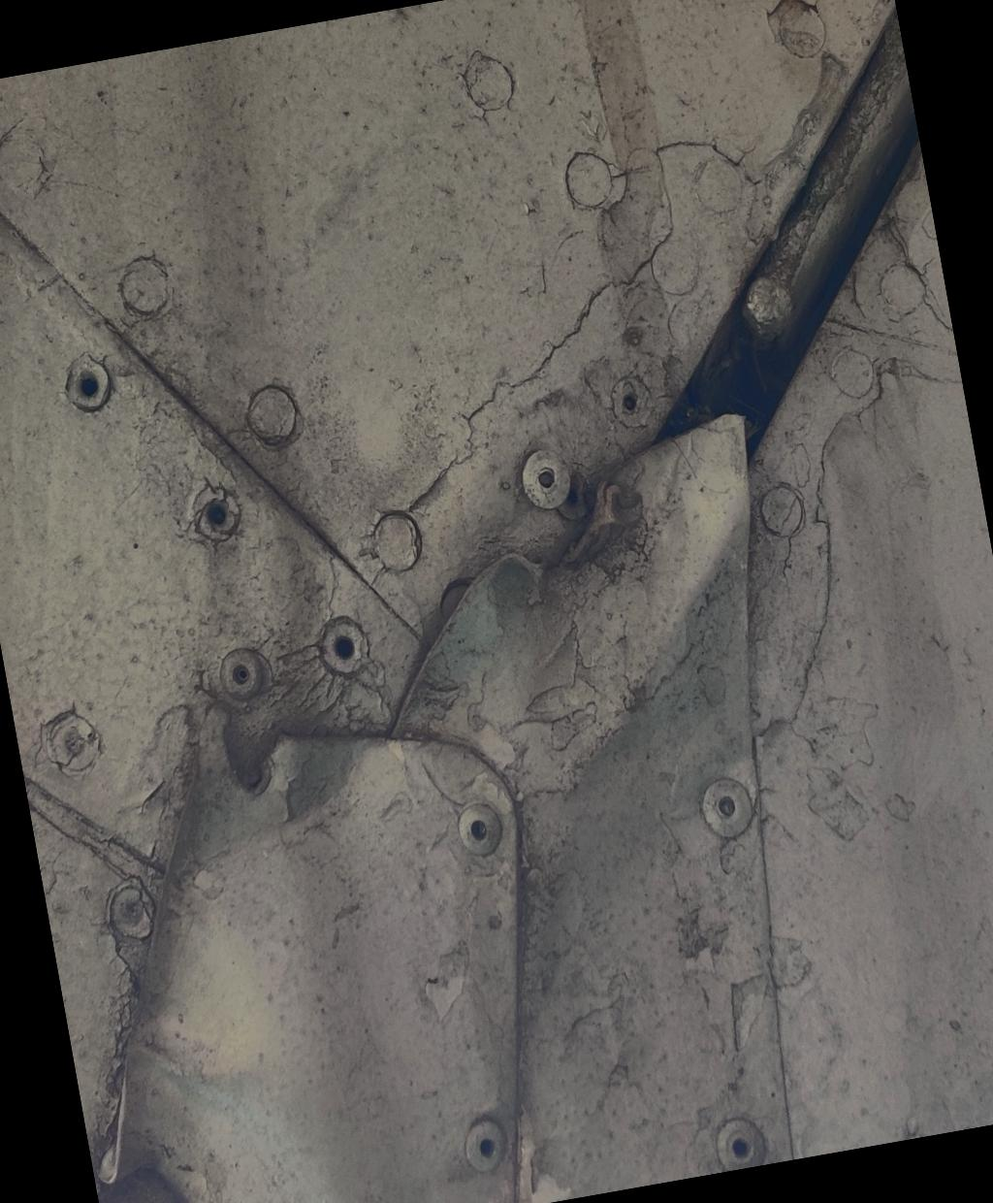crack: (491, 462, 649, 610)
